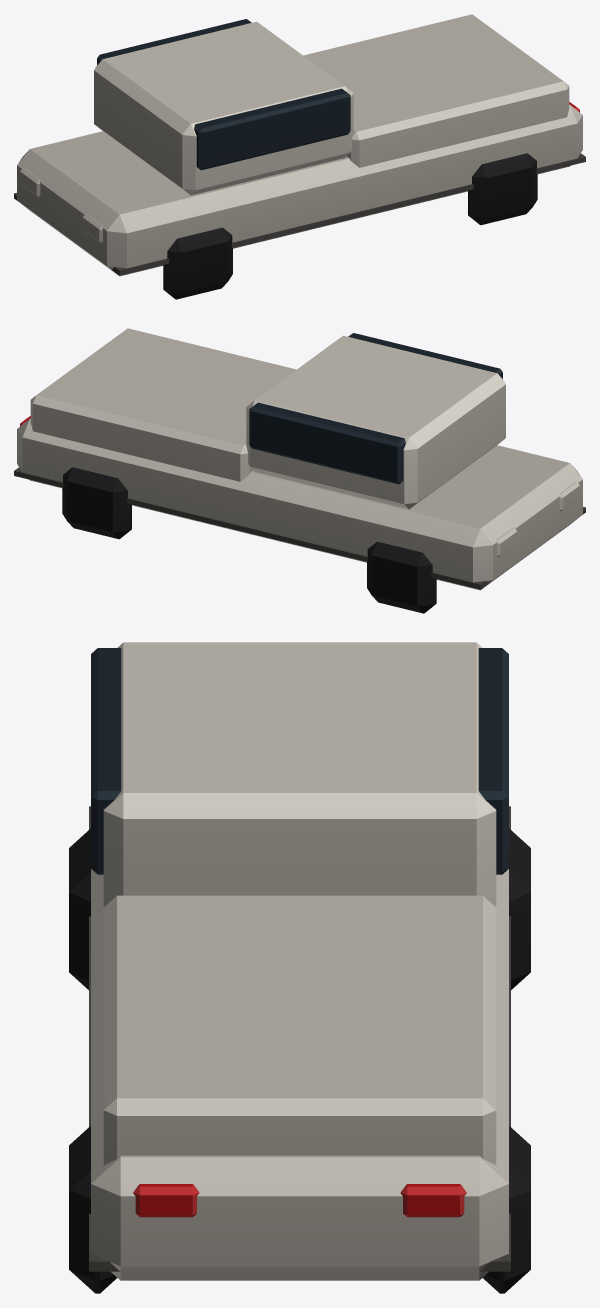
The model's file is car-pickup-v1.glb.
3 views of the same model, one above another, from view 1: azimuth 30°, elevation 25°; view 2: azimuth 150°, elevation 25°; view 3: azimuth 270°, elevation 25° (orthographic). The views are drawn at different scales.
Parts seen in each view (by area): view 1: car-pickup-v1.lod0; view 2: car-pickup-v1.lod0; view 3: car-pickup-v1.lod0.
Part boxes in pixels (x1,y1,x2,y2): car-pickup-v1.lod0: [14, 14, 585, 299]; car-pickup-v1.lod0: [14, 328, 585, 613]; car-pickup-v1.lod0: [69, 642, 530, 1293].
Bounding box in the file's own units: 5.05 × 1.66 × 2.1.
